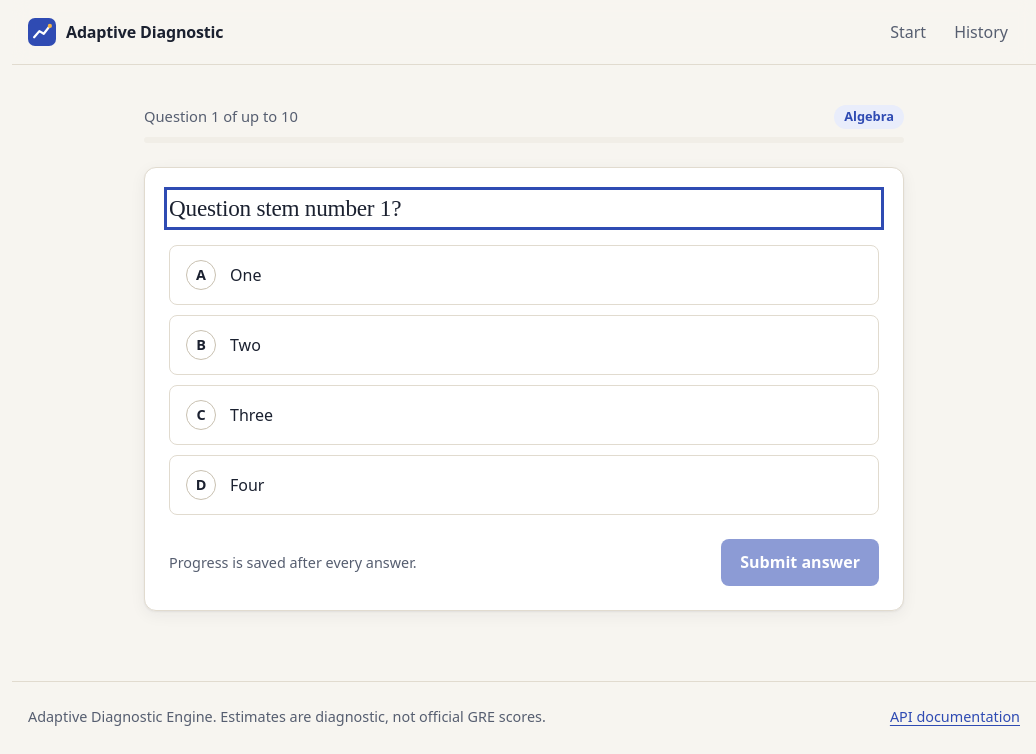
it: assessment page › recovers from a duplicate submission by reloading the current state
Click the radio button labelled "A One" at coordinates (246, 275), box [169, 246, 879, 306]
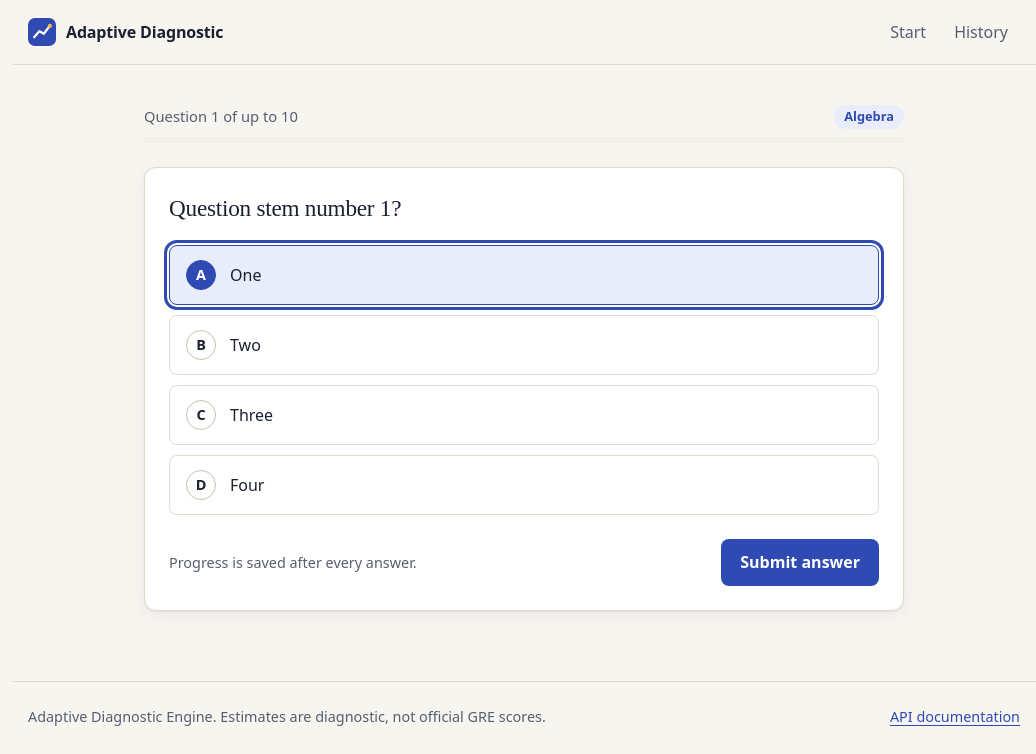
Click the button "Submit answer" at coordinates (800, 563), box [721, 540, 879, 586]
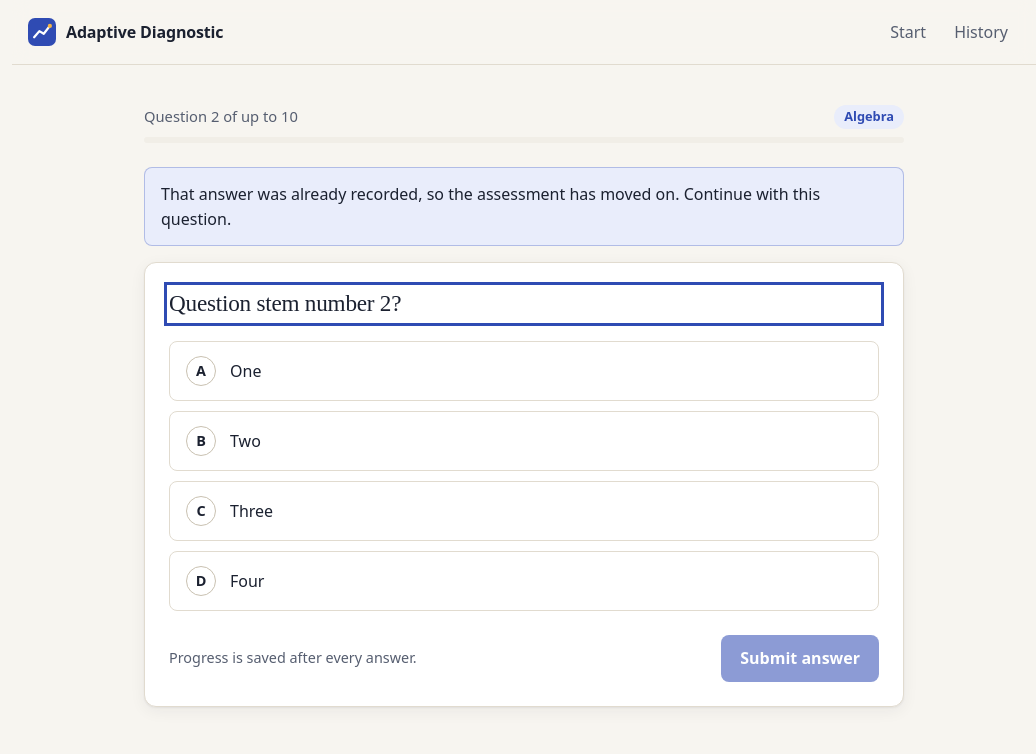
Expected: the heading "Question stem number 2?" is shown, [169, 290, 401, 316]
Expected: the text "already recorded" is shown, [161, 183, 820, 230]
